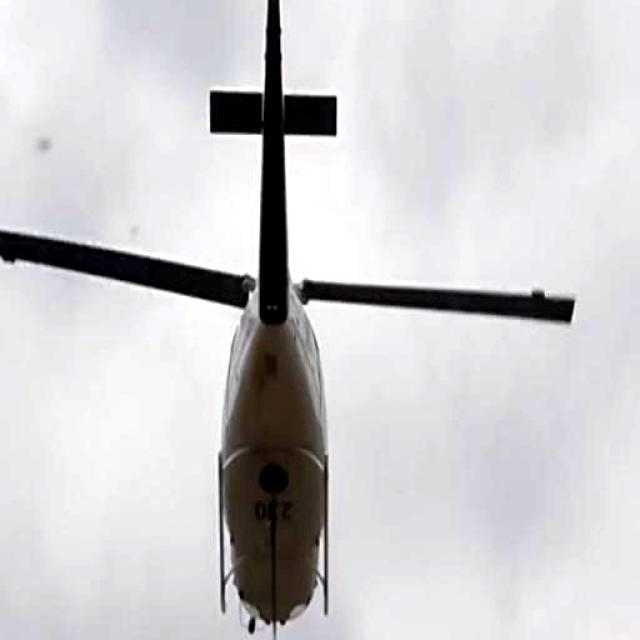drone: (0, 0, 574, 639)
